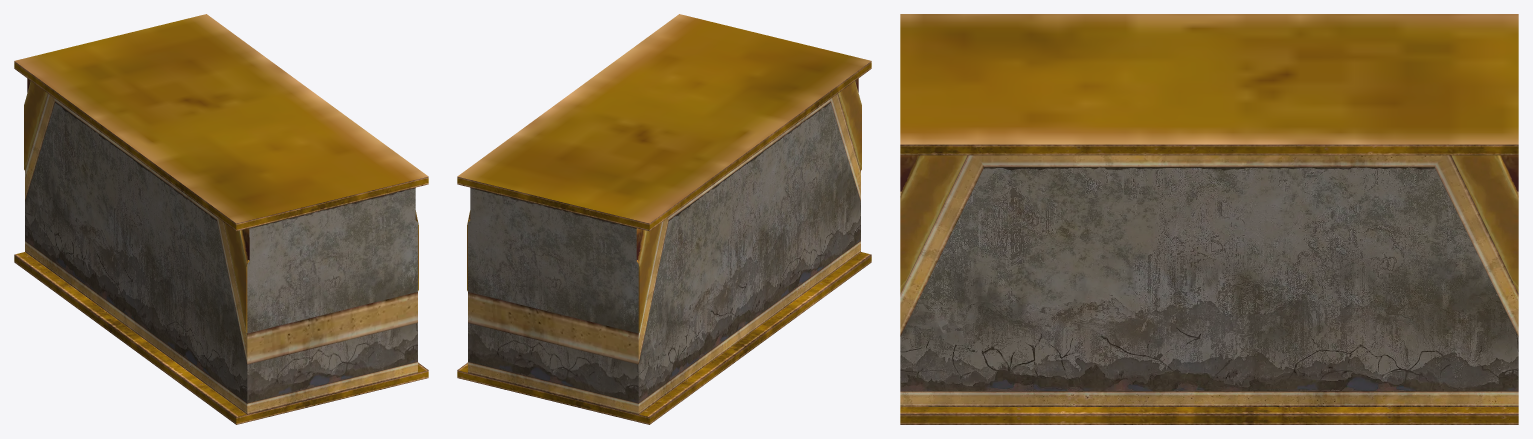
3 renders of one model, left to right at view 1: azimuth 30°, elevation 25°; view 2: azimuth 150°, elevation 25°; view 3: azimuth 270°, elevation 25°, orthographic. The views are drawn at different scales.
Visible parts, largest first — view 1: SM_DK_2m_Wall_01_LOD0; view 2: SM_DK_2m_Wall_01_LOD0; view 3: SM_DK_2m_Wall_01_LOD0.
Boxes of the visible parts, box(x1,y1,x2,y2) form: SM_DK_2m_Wall_01_LOD0: box(14, 14, 428, 424); SM_DK_2m_Wall_01_LOD0: box(457, 14, 871, 424); SM_DK_2m_Wall_01_LOD0: box(900, 14, 1518, 424).
Size of the model in its own units: 2 by 2 by 4.
2 materials, 2 textured.
